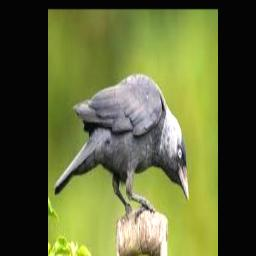Crow: (53, 73, 188, 223)
